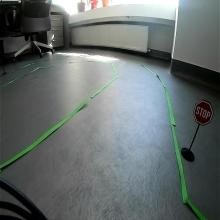stop: (193, 98, 214, 128)
